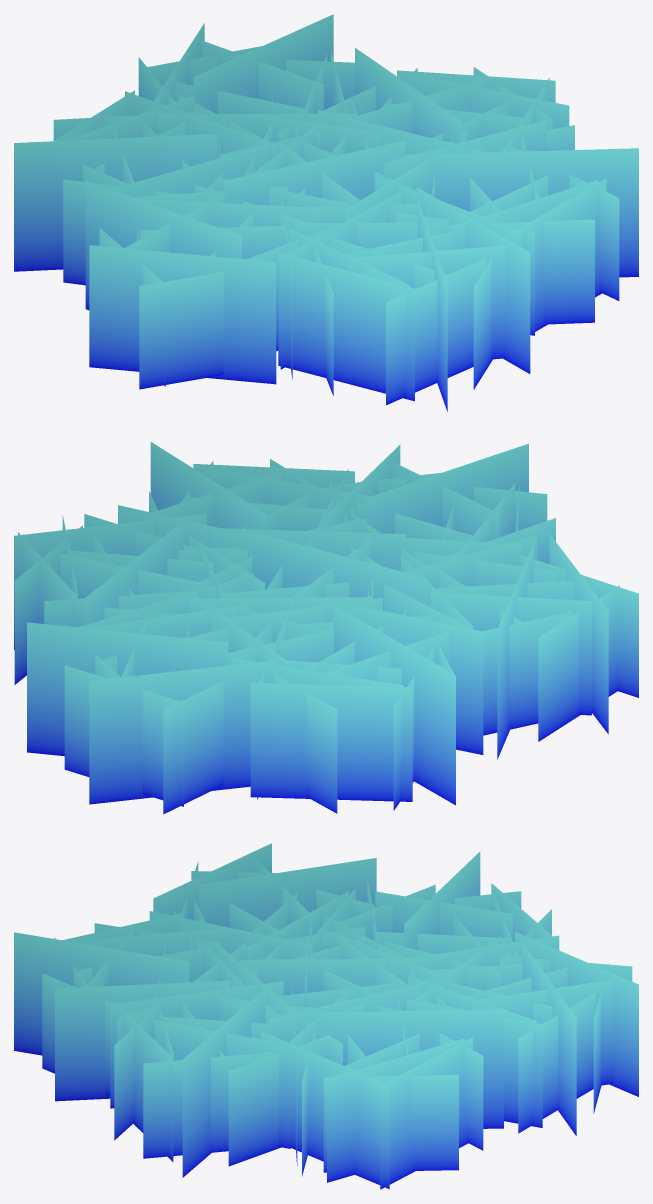
File: SM_Env_Grass_Tall_Clump_04.FBX
3 renders of one model, top to bottom at view 1: azimuth 30°, elevation 25°; view 2: azimuth 150°, elevation 25°; view 3: azimuth 270°, elevation 25°, orthographic. The views are drawn at different scales.
Parts seen in each view (by area): view 1: SM_Env_Grass_Tall_Clump_04; view 2: SM_Env_Grass_Tall_Clump_04; view 3: SM_Env_Grass_Tall_Clump_04.
Part boxes in pixels (x1=…): SM_Env_Grass_Tall_Clump_04: x1=14, y1=14, x2=638, y2=411; SM_Env_Grass_Tall_Clump_04: x1=14, y1=442, x2=638, y2=814; SM_Env_Grass_Tall_Clump_04: x1=14, y1=843, x2=638, y2=1189.
Size of the model in its own units: 413 by 462 by 99.37.
